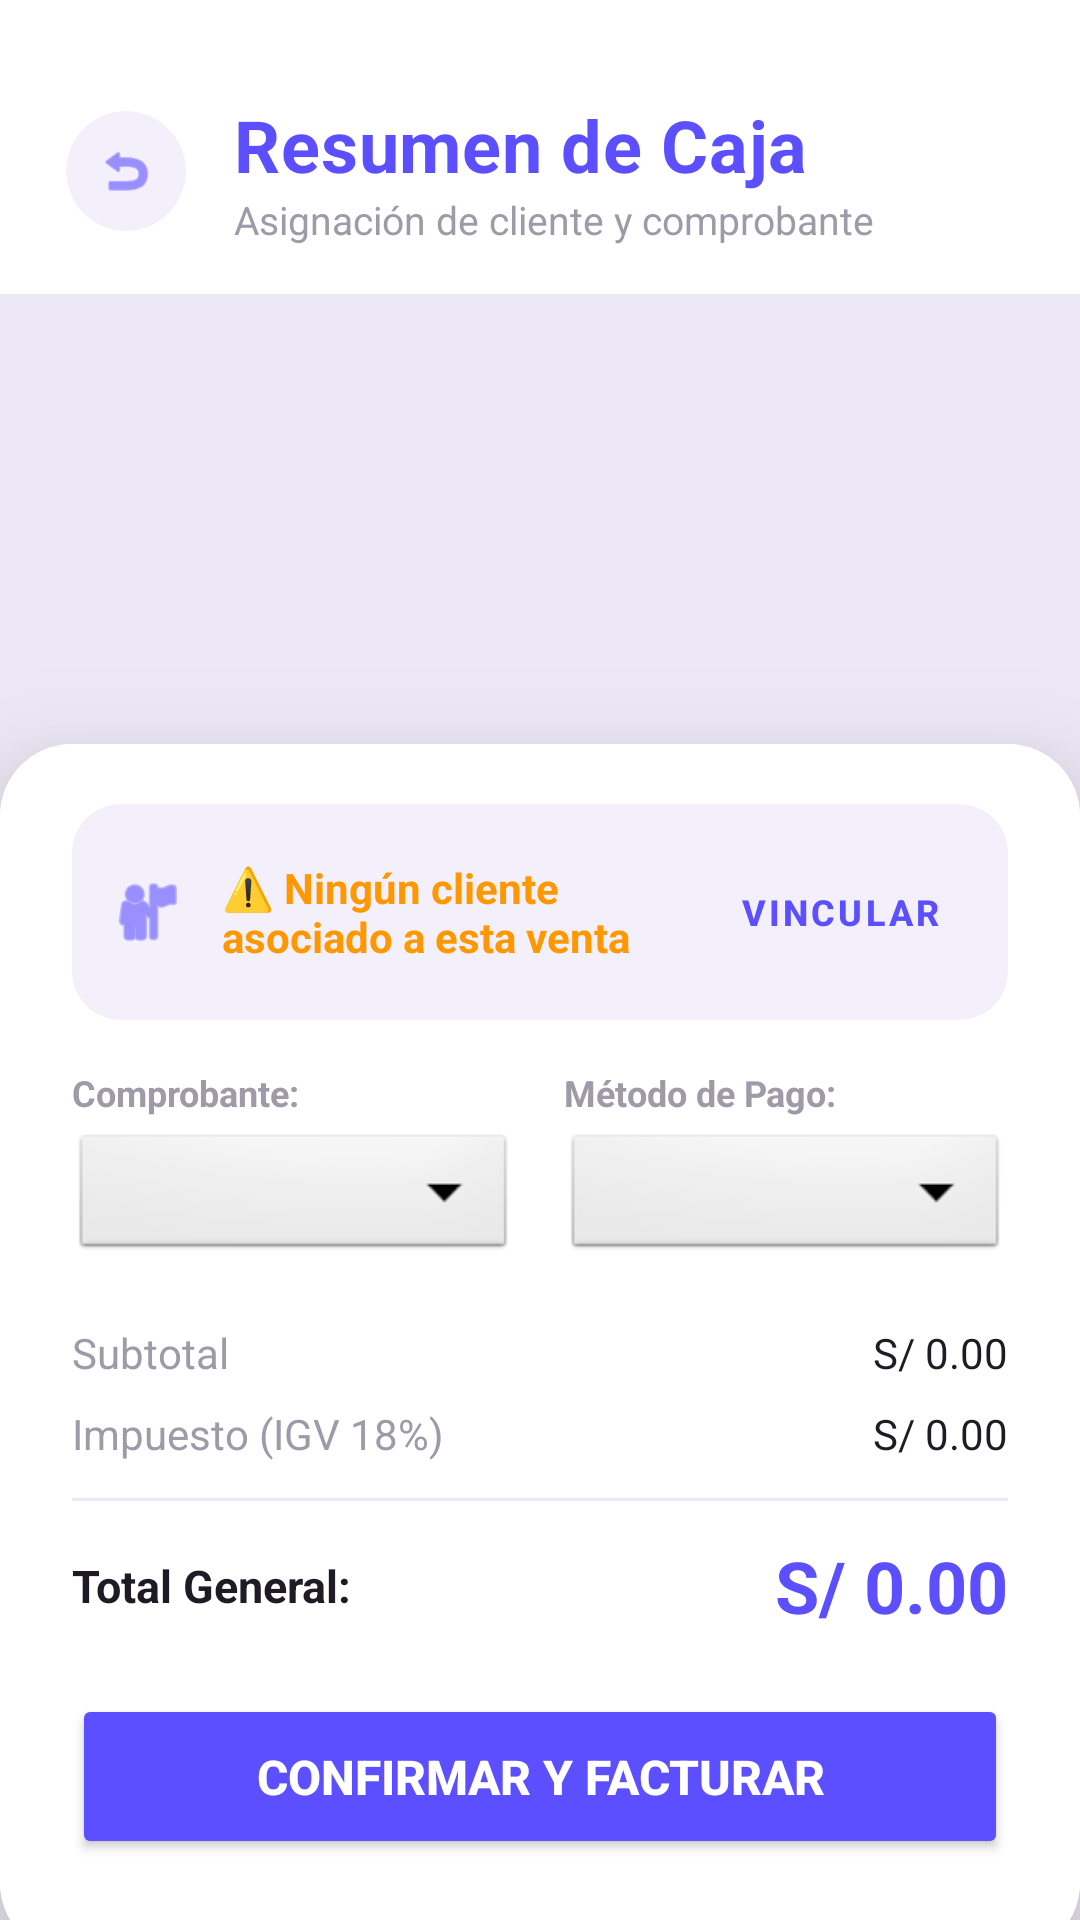

Where icons sit on this 1080 × 1920 app screen, as (x1, y1, x2, y2):
myplaces: (119, 883, 177, 941)
revert: (105, 152, 149, 191)
